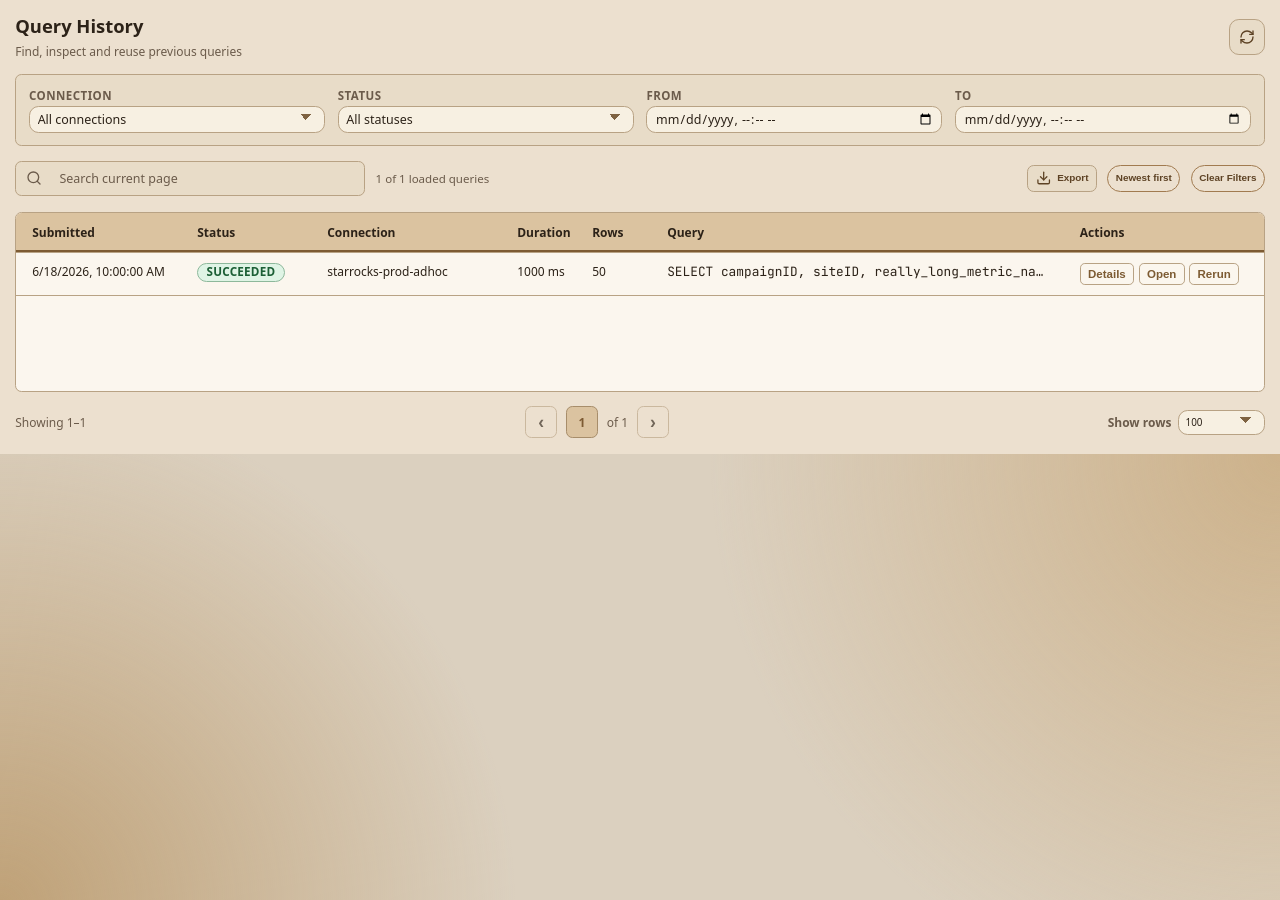
Test: QueryHistorySection › reports a rejected legacy clipboard fallback
Hover over the text with class "history-query-preview" at coordinates (858, 272), box [667, 263, 1048, 280]
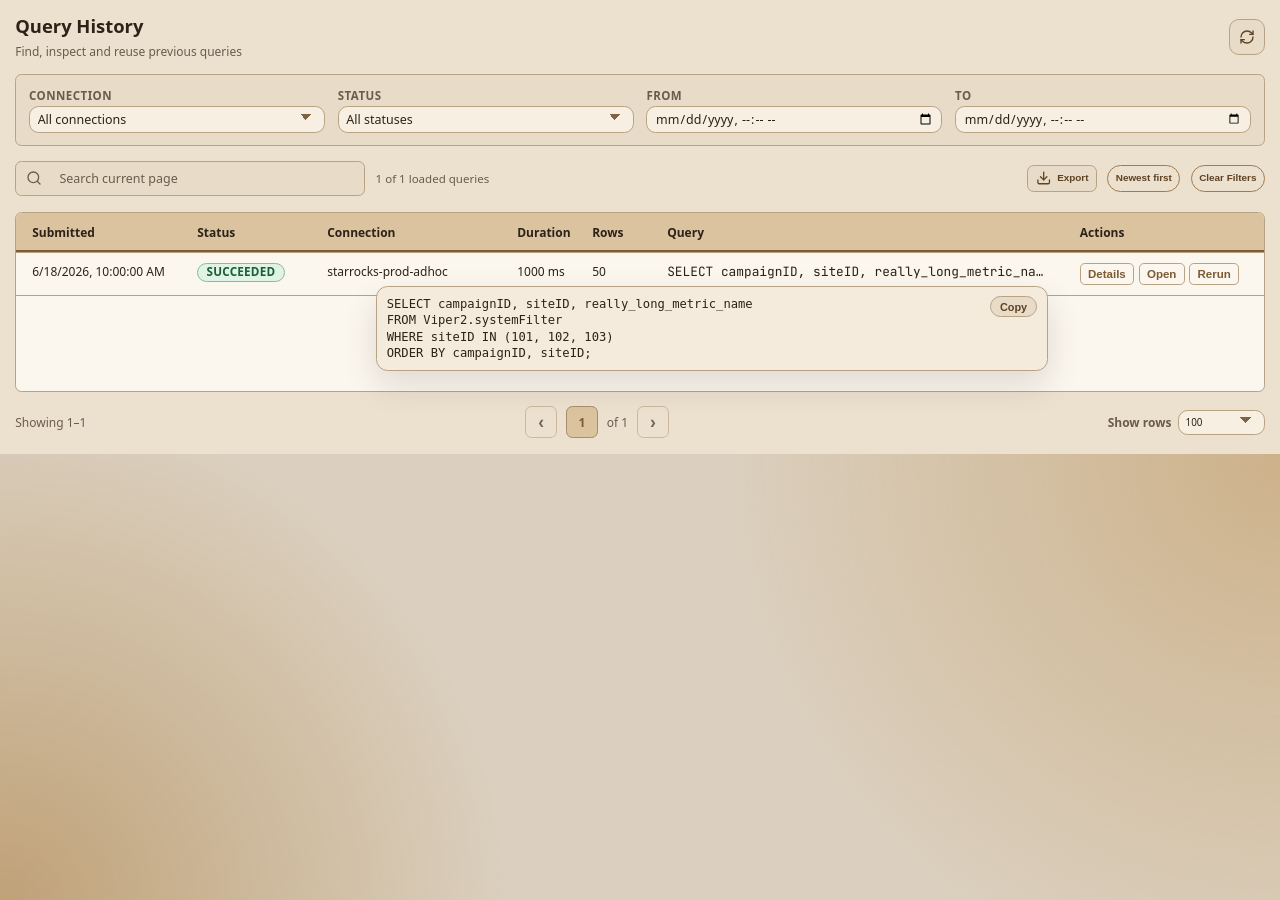
Click the button "Copy" at coordinates (1014, 307), box [990, 296, 1037, 318]
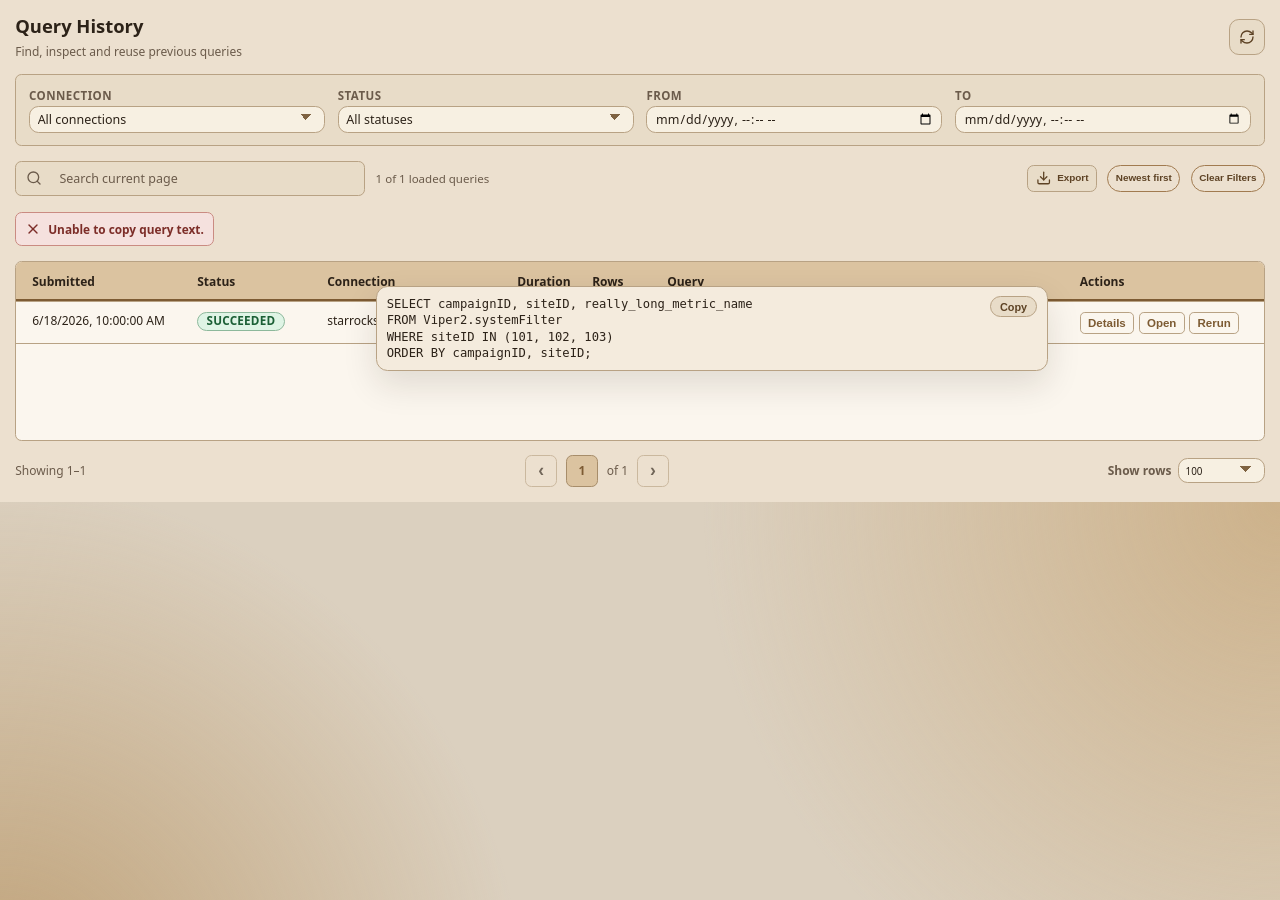
Result: the message reads "Unable to copy query text." at [48, 221, 204, 237]
